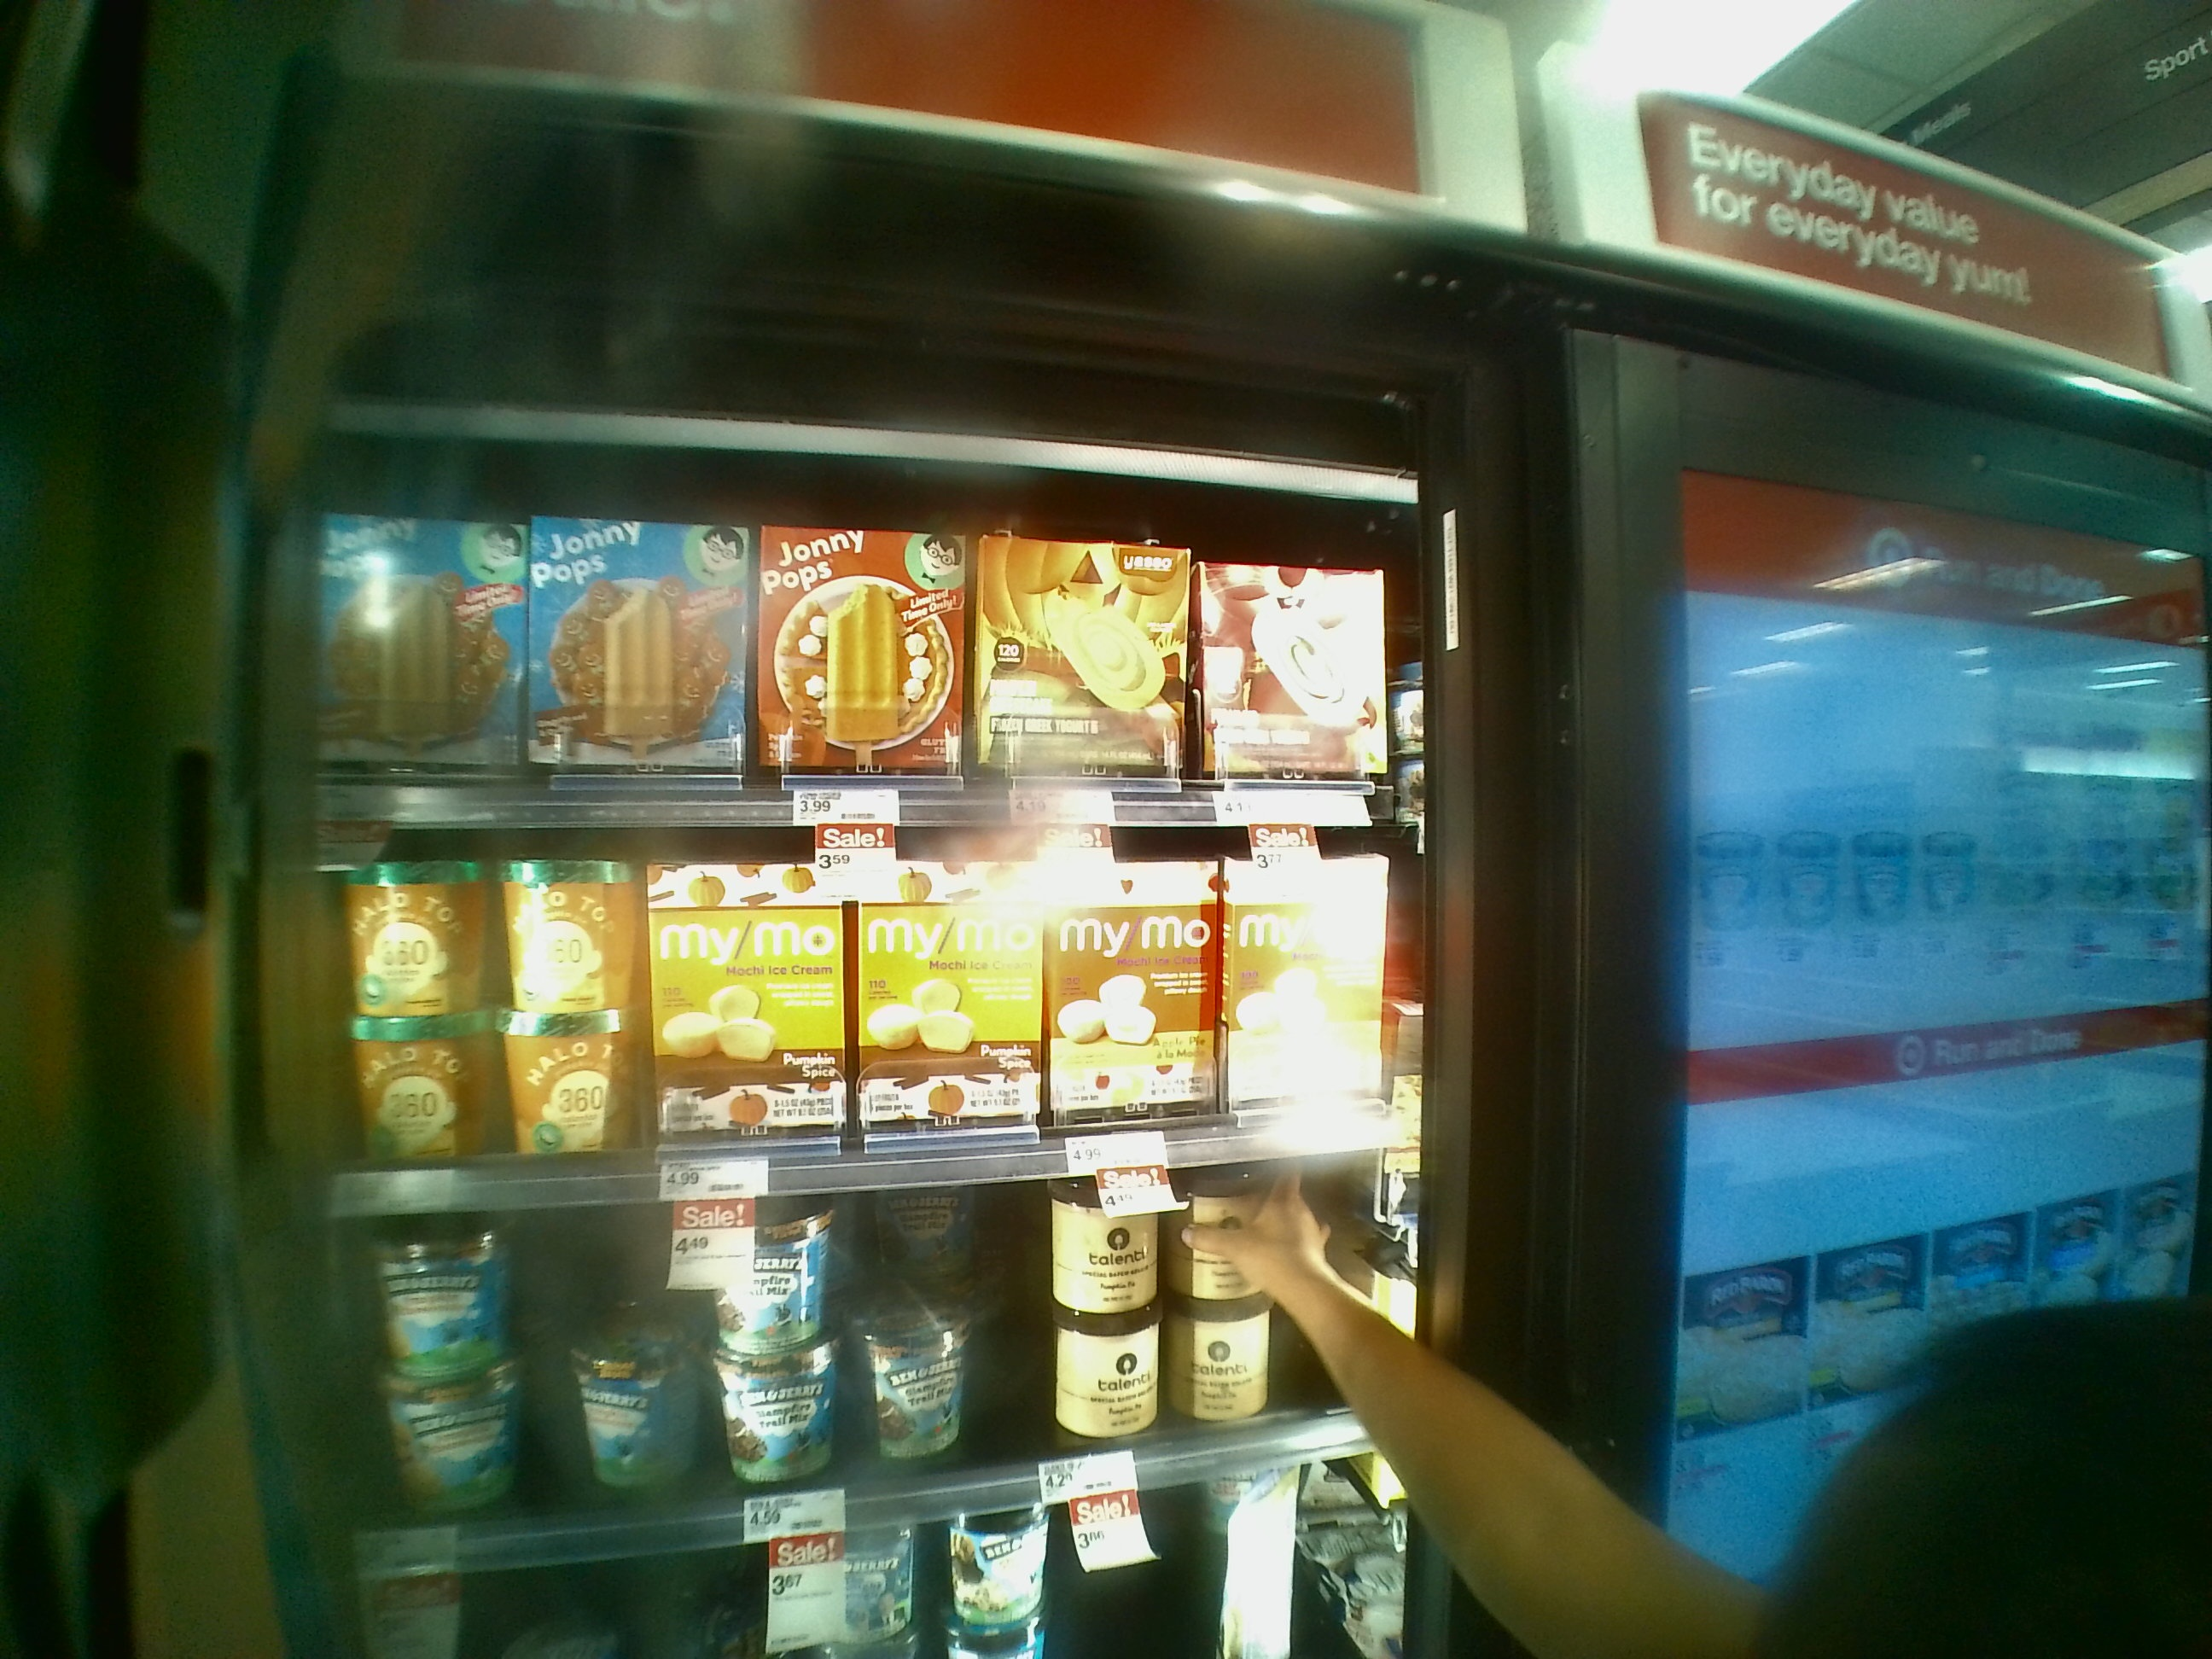shelf: (291, 410, 1442, 828), (286, 803, 1437, 1150)
